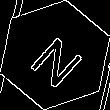N_NE: (22, 23, 88, 87)
